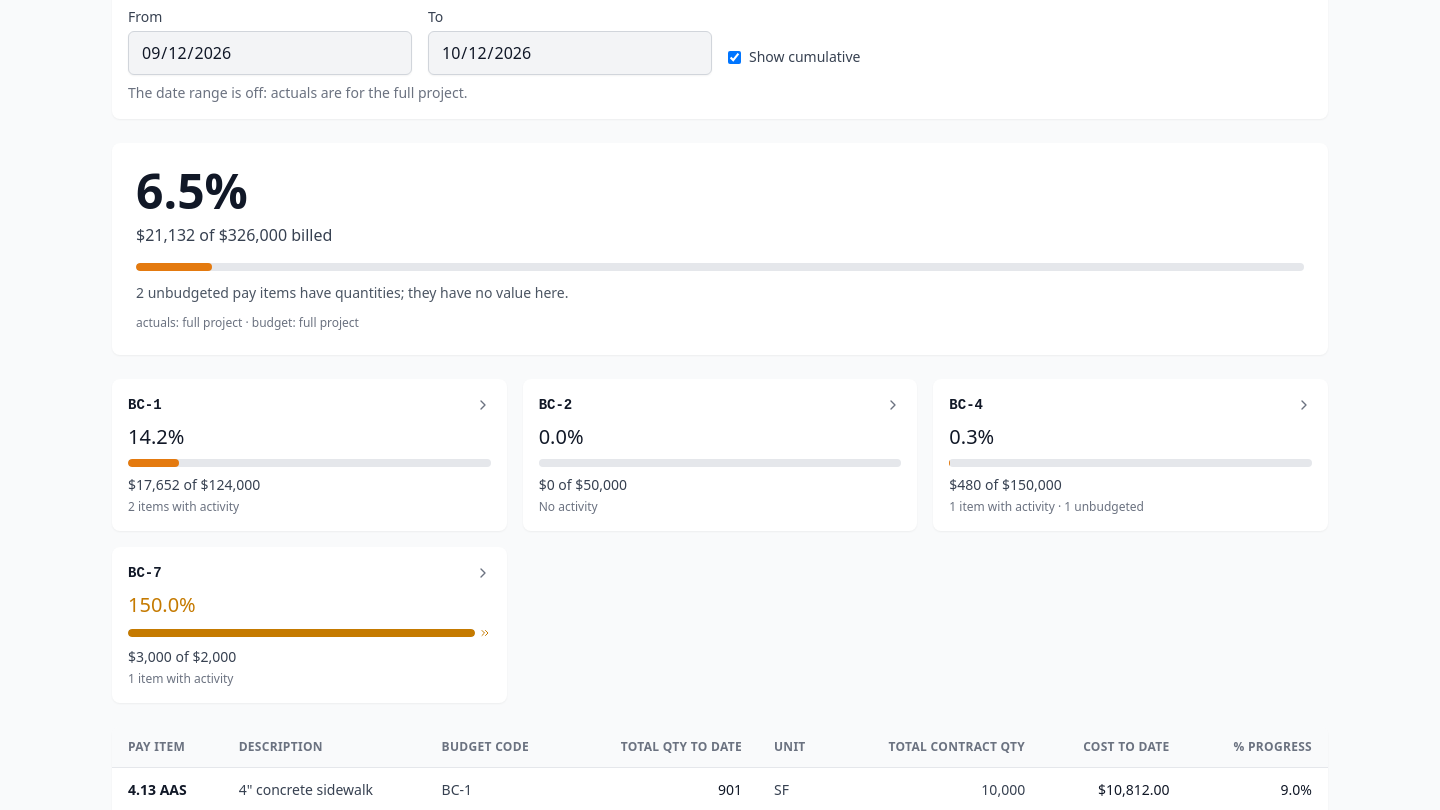
Test case: ProgressPage — the budget codes › an opened card lists an unbudgeted item by its quantity, and says when a code has none
(page scrolled)
What coordinates should you click on to do the following:
click the button "BC-4"
I would click on:
 (966, 405)
Its box is [949, 395, 1312, 415].
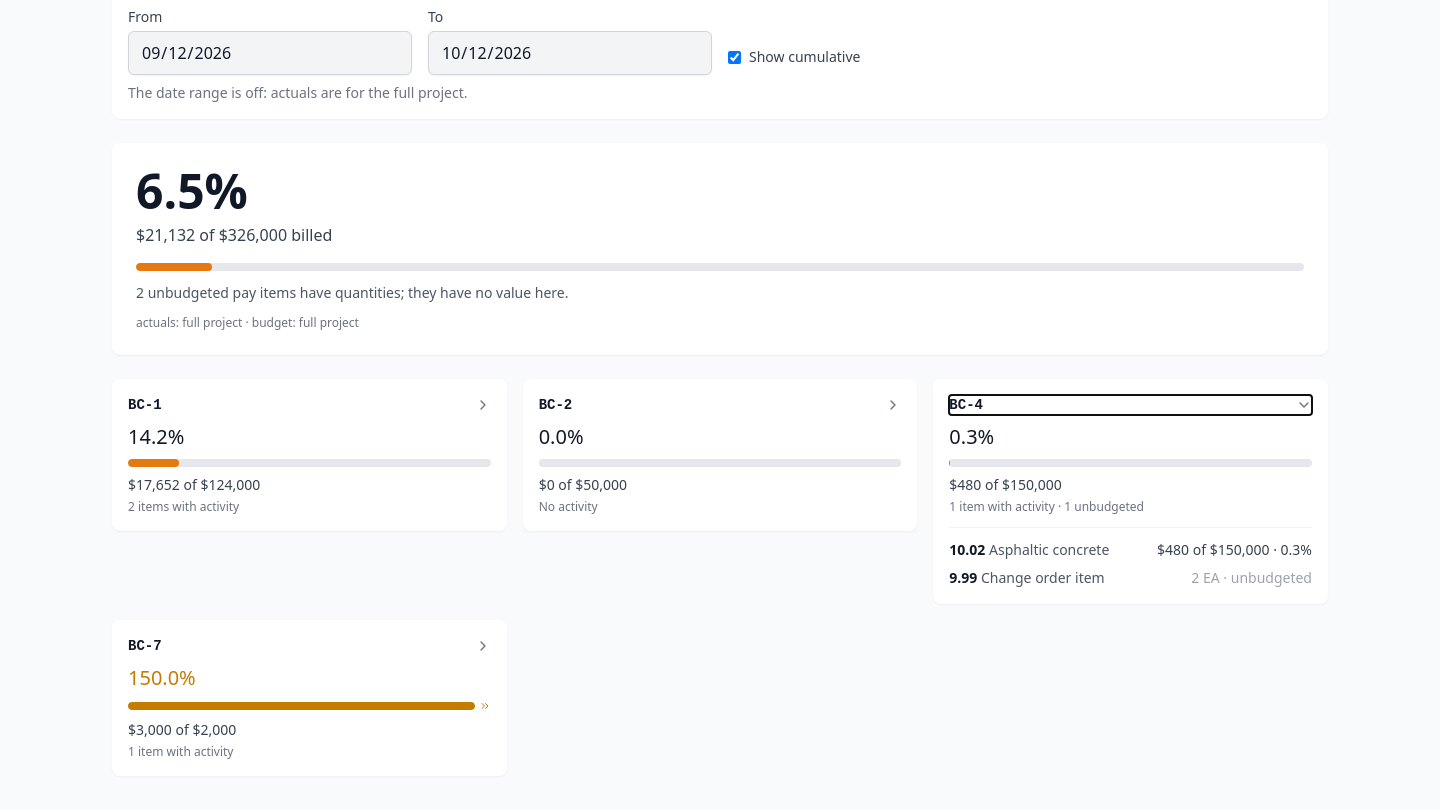
Result: the list items read "10.02 Asphaltic concrete$480 of $150,000 · 0.3%", "9.99 Change order item2 EA · unbudgeted", in this order at [949, 540, 1312, 560]; [949, 568, 1312, 588]
What coordinates should you click on to do the following:
click the button "BC-2"
I would click on:
 (555, 405)
Its box is [539, 395, 901, 415].
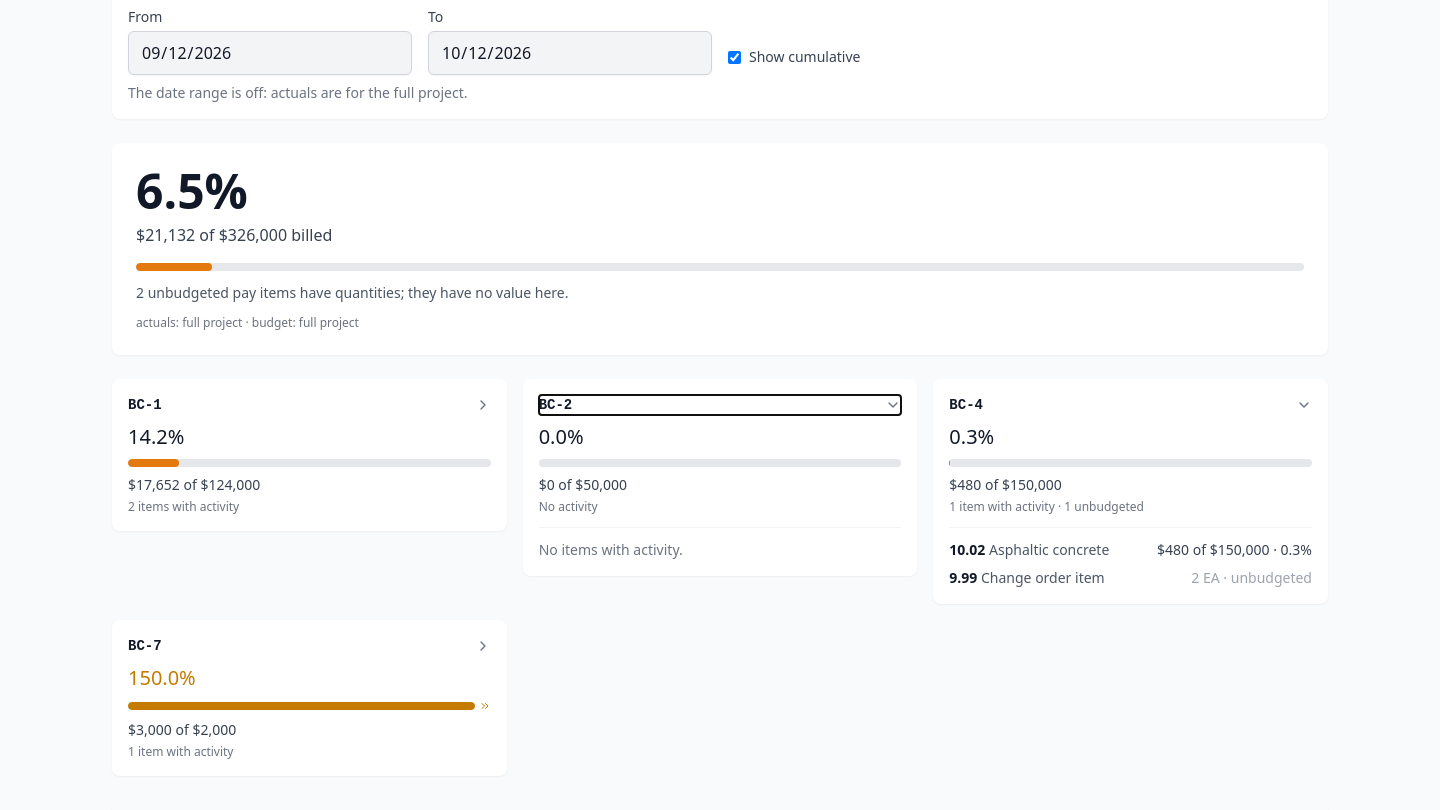
Result: the text "No items with activity." is shown at [539, 540, 683, 559]
